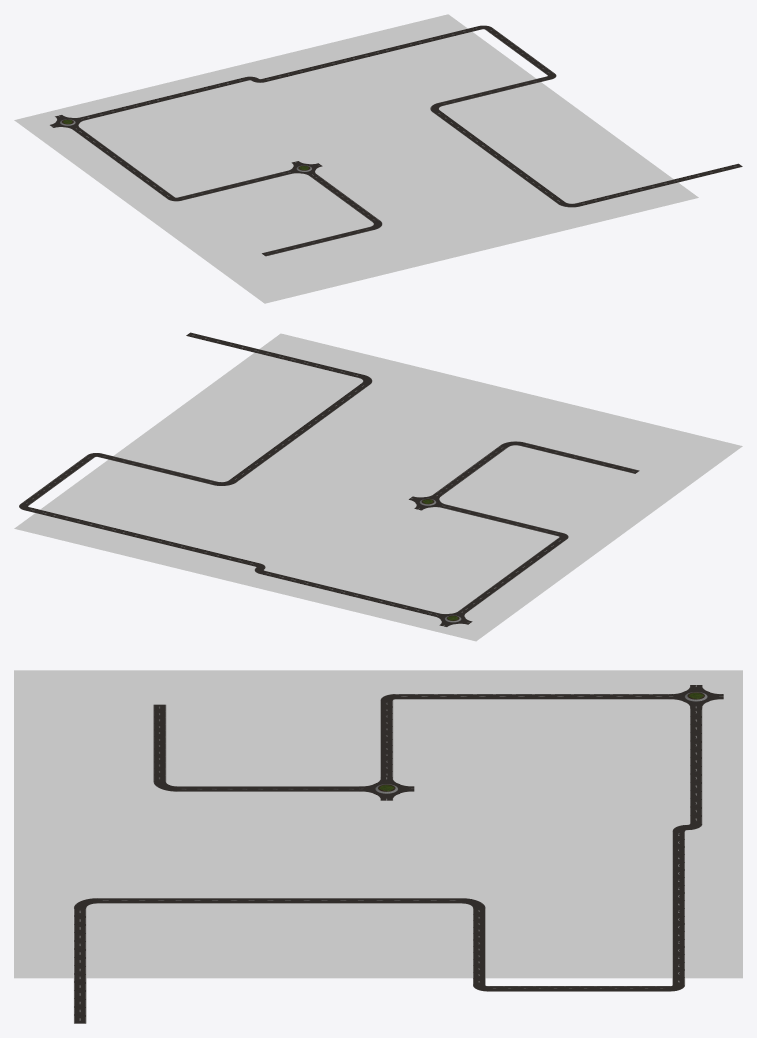
The model's file is Level_Test.FBX.
3 renders of one model, top to bottom at view 1: azimuth 30°, elevation 25°; view 2: azimuth 150°, elevation 25°; view 3: azimuth 270°, elevation 25°, orthographic. The views are drawn at different scales.
Visible parts, largest first — view 1: Plane01, Road_200M 02, Road_200M 03, Road_150M 04, Road_150M 03, Road_150M 02, Road_100M 04, Road_100M 02, Road_100M 06, Road_100M 03, Road_100M 05; view 2: Plane01, Road_200M 02, Road_200M 03, Road_150M 03, Road_150M 04, Road_150M 02, Road_100M 04, Road_100M 06, Road_100M 02, Road_100M 03, Road_100M 05; view 3: Plane01, Road_200M 03, Road_200M 02, Road_150M 02, Road_150M 04, Road_150M 03, Road_100M 03, Road_100M 05, Road_100M 02, Road_100M 04, Road_100M 06, Roundabout 02 (+1 smaller).
Boxes of the visible parts, x1,y1,x2,y2 form: Plane01: (14, 14, 698, 303); Road_200M 02: (261, 26, 482, 82); Road_200M 03: (433, 110, 564, 203); Road_150M 04: (576, 163, 742, 206); Road_150M 03: (82, 77, 248, 119); Road_150M 02: (74, 128, 174, 198); Road_100M 04: (177, 171, 289, 200); Road_100M 02: (262, 227, 373, 256); Road_100M 06: (438, 76, 550, 105); Road_100M 03: (310, 174, 379, 222); Road_100M 05: (485, 27, 554, 75); Plane01: (14, 333, 742, 641); Road_200M 02: (24, 507, 259, 566); Road_200M 03: (229, 383, 369, 482); Road_150M 03: (260, 571, 437, 616); Road_150M 04: (186, 332, 363, 377); Road_150M 02: (459, 537, 566, 612); Road_100M 04: (443, 505, 562, 536); Road_100M 06: (98, 453, 216, 484); Road_100M 02: (520, 442, 639, 473); Road_100M 03: (434, 445, 508, 495); Road_100M 05: (21, 455, 94, 505); Plane01: (14, 670, 742, 978); Road_200M 03: (97, 898, 461, 903); Road_200M 02: (672, 831, 685, 985); Road_150M 02: (395, 694, 668, 699); Road_150M 04: (73, 908, 86, 1023); Road_150M 03: (690, 708, 702, 823); Road_100M 03: (177, 786, 359, 791); Road_100M 05: (488, 986, 670, 991); Road_100M 02: (153, 704, 166, 781); Road_100M 04: (380, 700, 393, 777); Road_100M 06: (473, 908, 485, 985); Roundabout 02: (359, 777, 414, 800).
Size of the model in its own units: 459 by 400 by 0.9.
